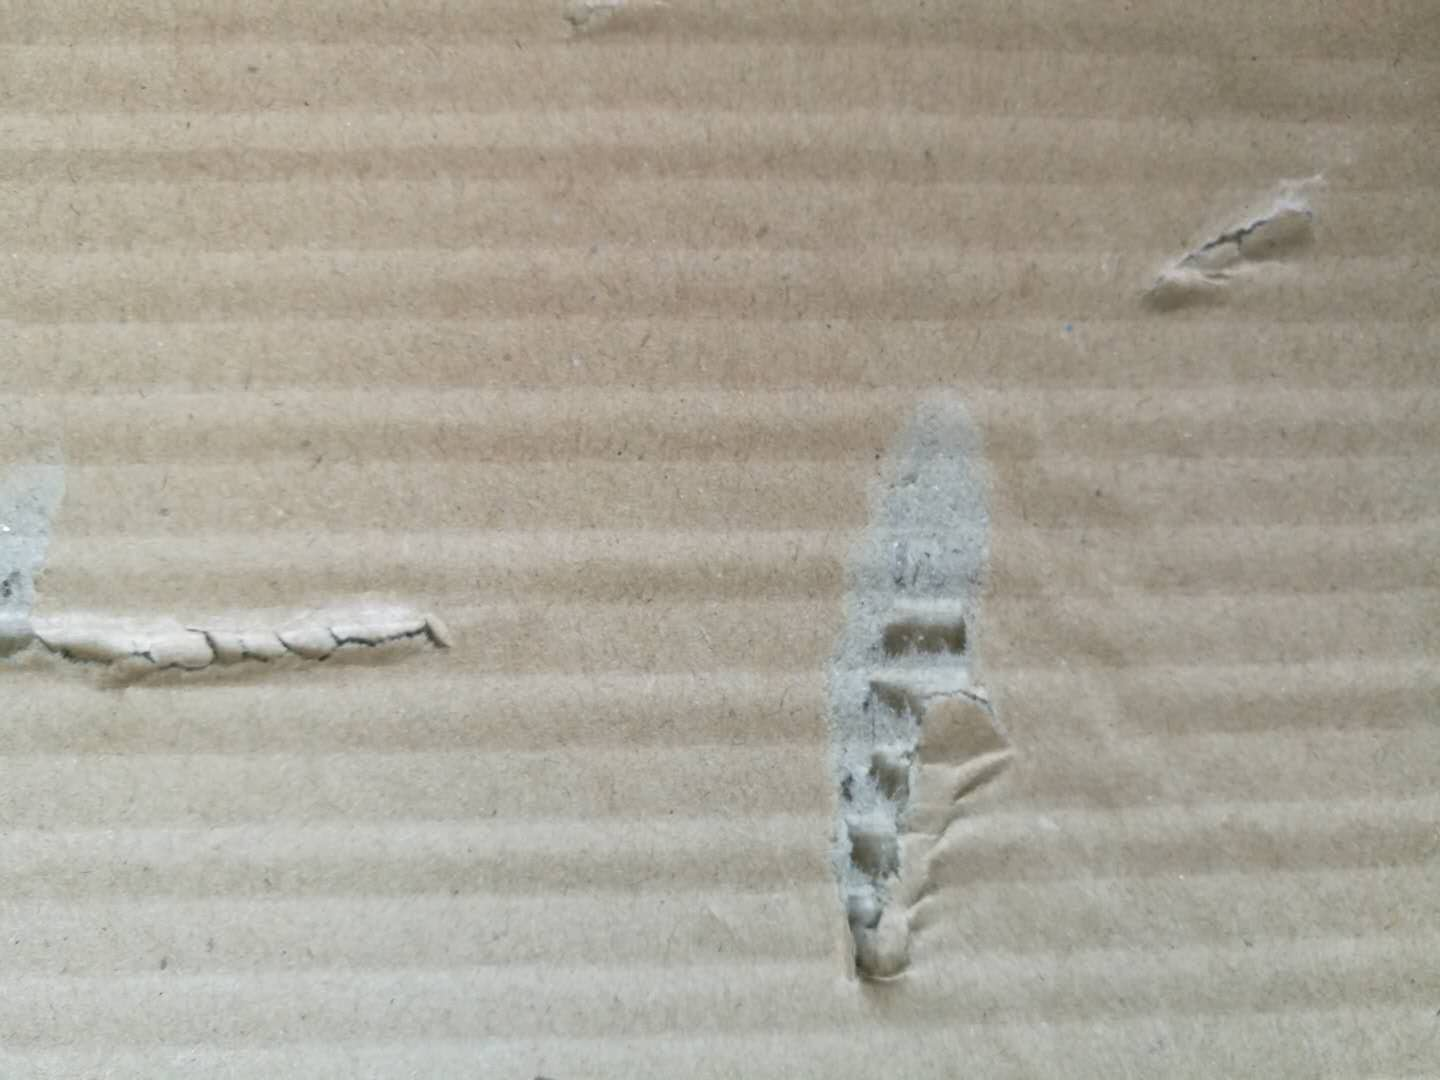defect: (783, 363, 1050, 1021), (1, 421, 486, 722), (1093, 142, 1363, 338), (554, 1, 636, 54)
